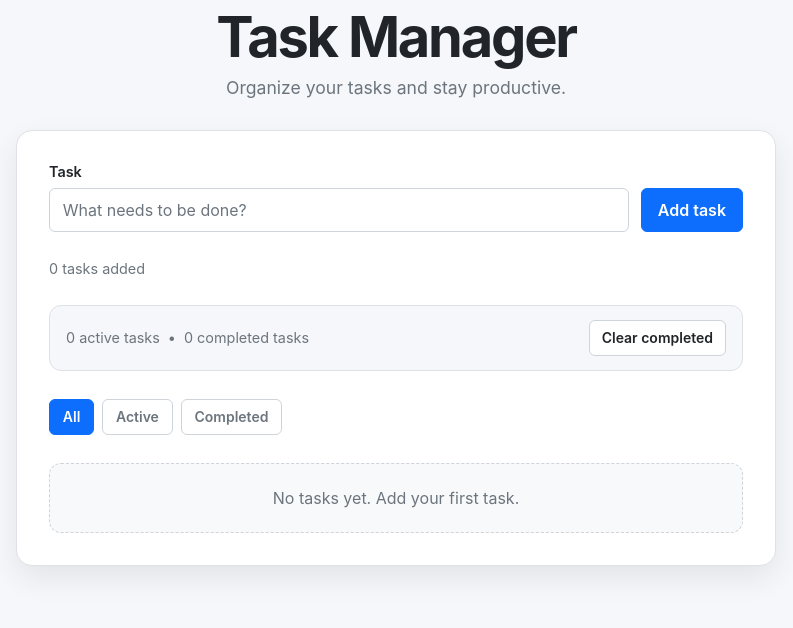
Test: App › updates the task count after a valid task is submitted
expect the text "0 tasks added" is shown: met, box [49,260,145,277]
Type "Buy groceries" into the field labelled "Task" at (339, 210), box [49,188,629,232]
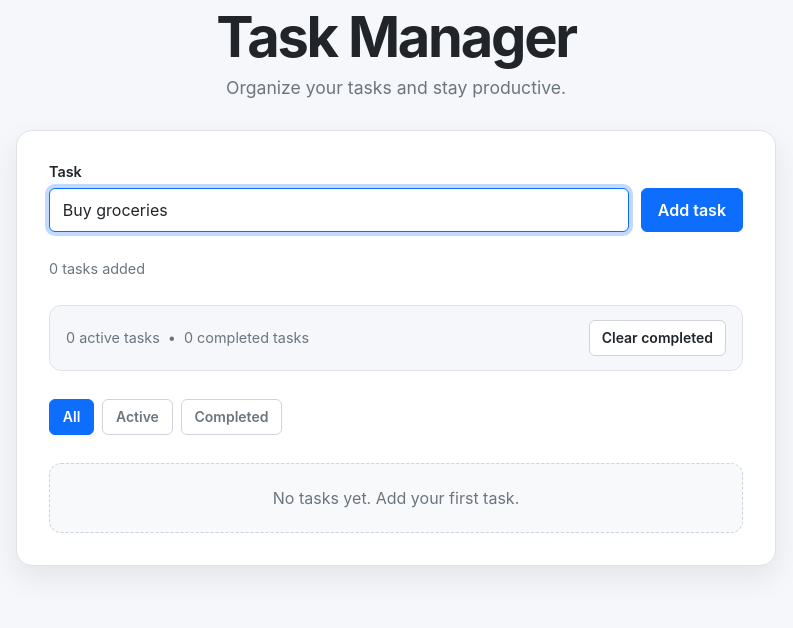
Click the button "Add task" at (692, 210), box [641,188,743,232]
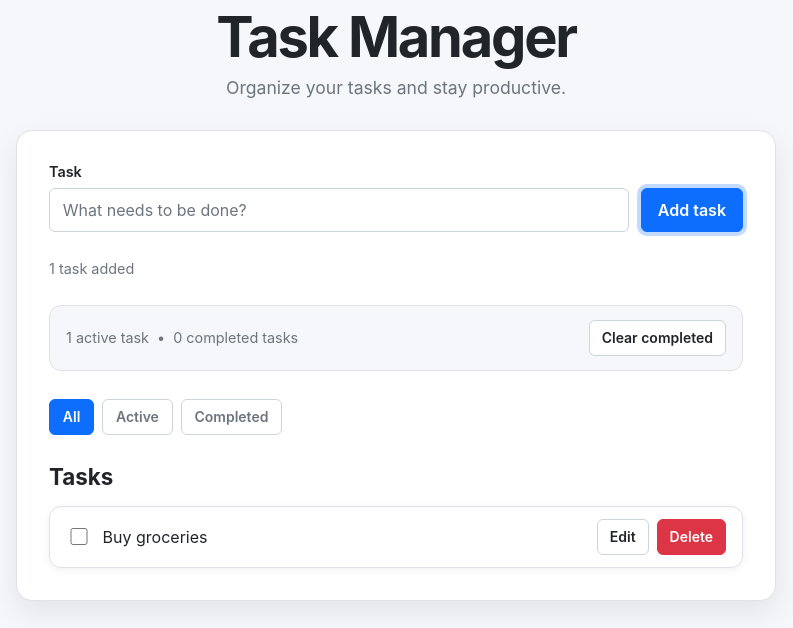
expect the text "1 task added" is shown: met, box [49,260,134,277]
expect the text "Buy groceries" is shown: met, box [103,527,208,547]
